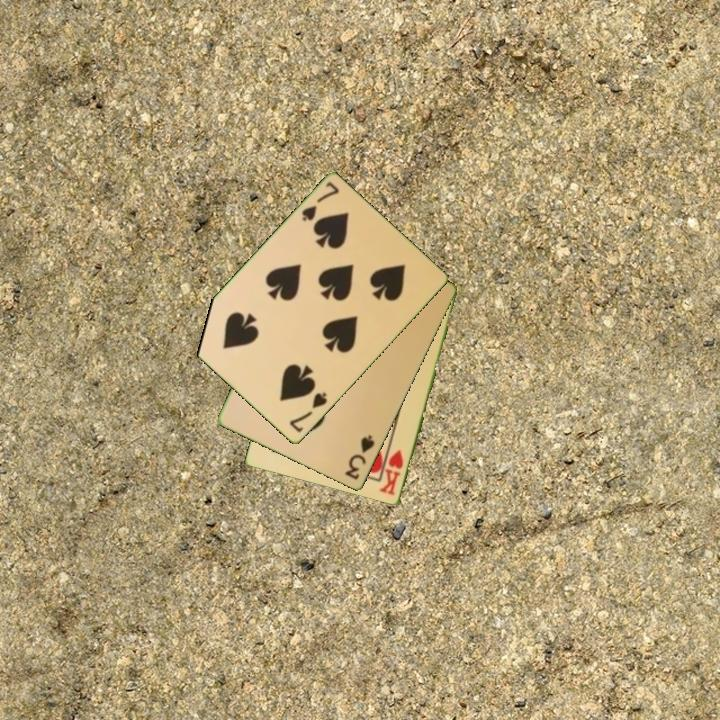3s: (341, 432, 378, 483)
7s: (286, 389, 330, 436), (298, 178, 342, 225)
Kh: (377, 446, 406, 498)
